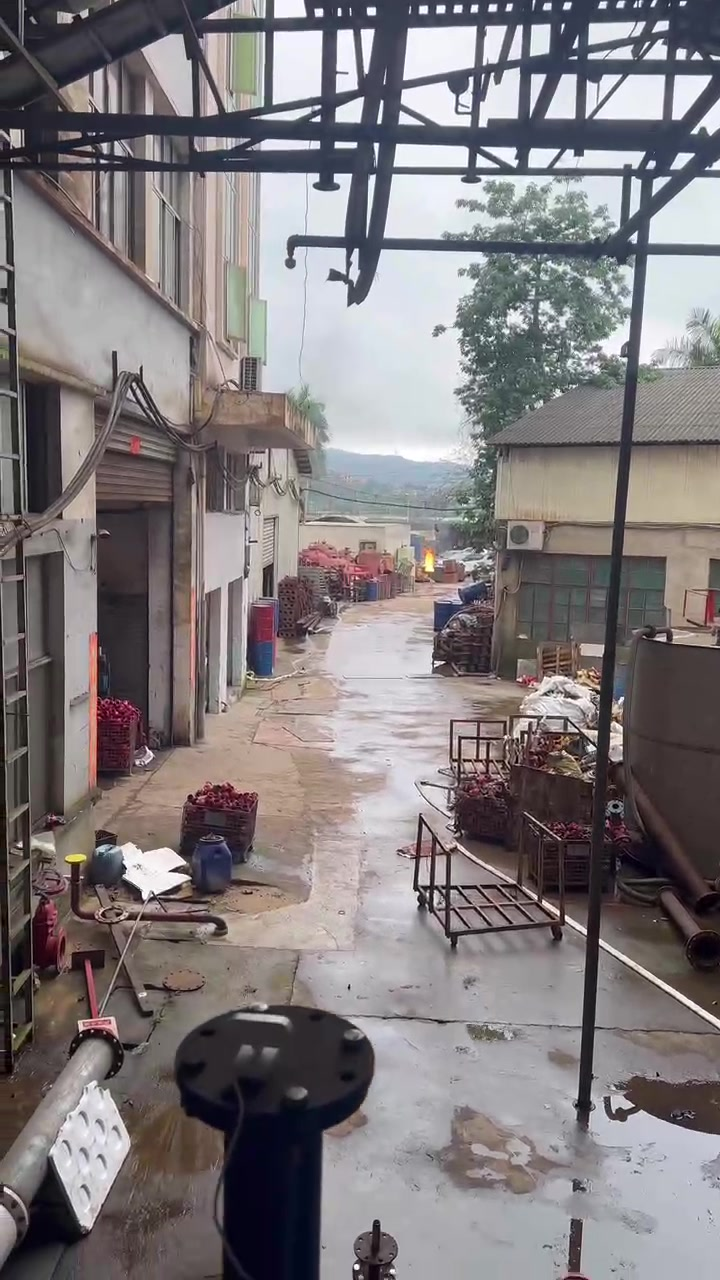fire: (422, 548, 434, 571)
